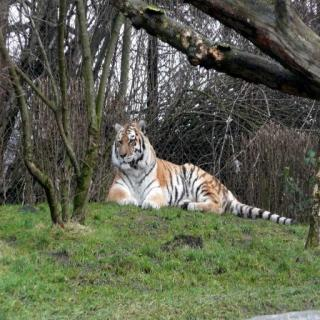Tiger: (100, 117, 306, 229)
